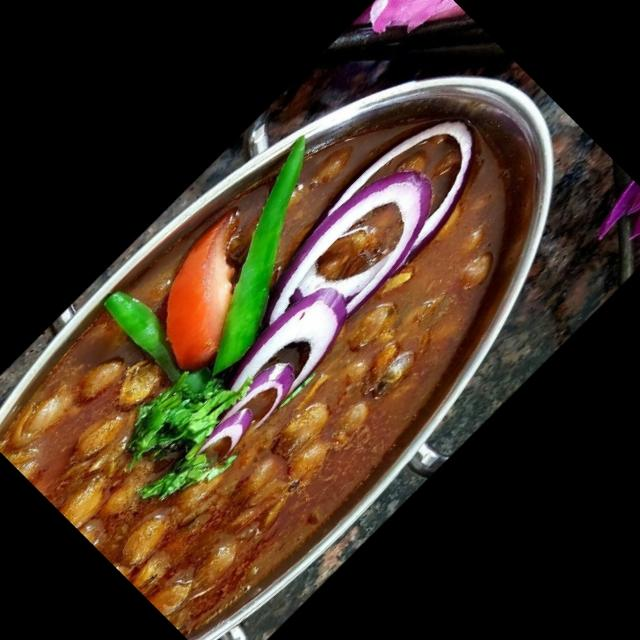Chole: (0, 27, 603, 640)
